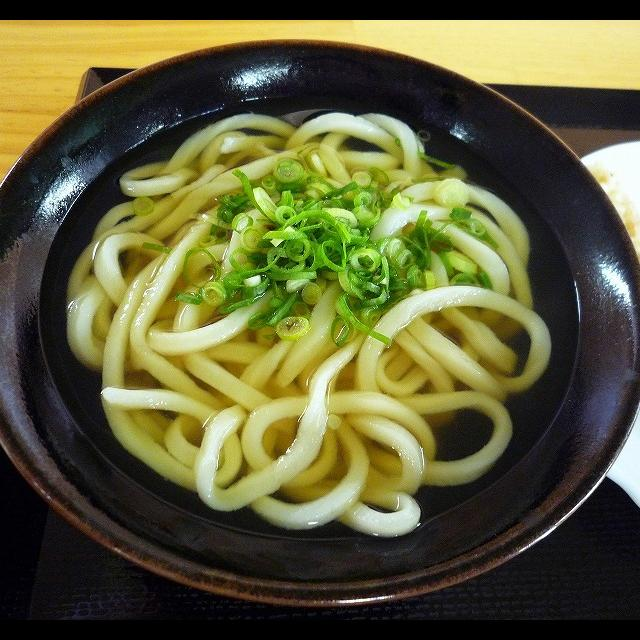noodles: (59, 111, 551, 538)
